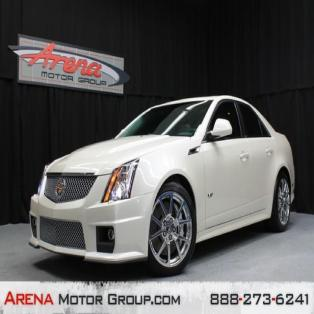Auto: (29, 94, 296, 277)
